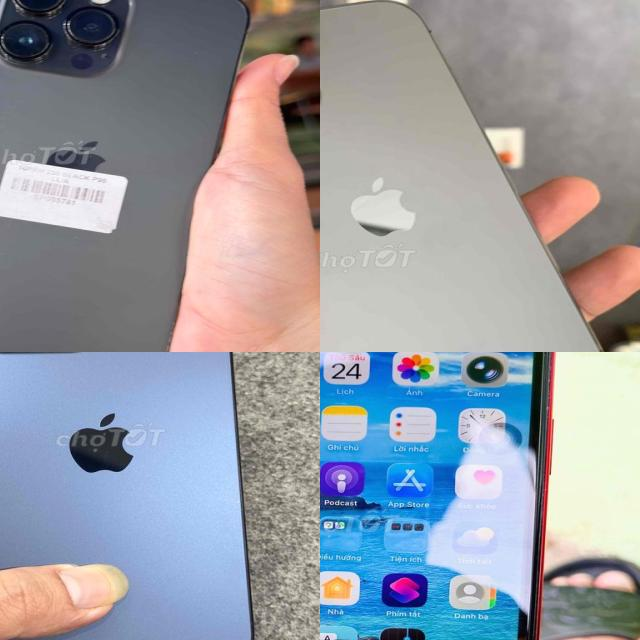gen_11: (320, 352, 558, 640)
gen_12_13: (320, 0, 614, 352)
gen_14: (0, 0, 251, 352)
gen_15: (0, 352, 261, 640)
